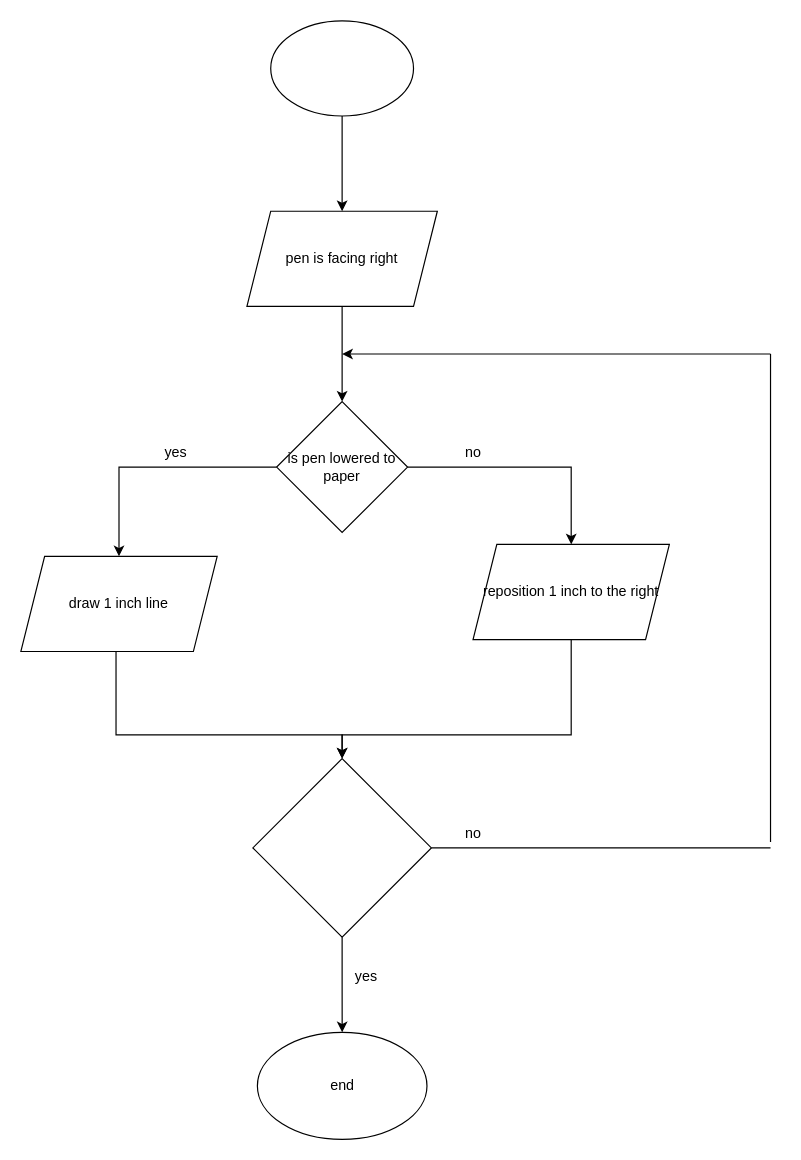
Image size: 801x1160. Some labels were removed from this diagram. The shapes that lost their labels are listed below. From the top down, each one's box as (x1, y1, x2, y2) in pixels, then its label:
(270, 20, 414, 116): start
(252, 757, 431, 937): is circle drawn?
